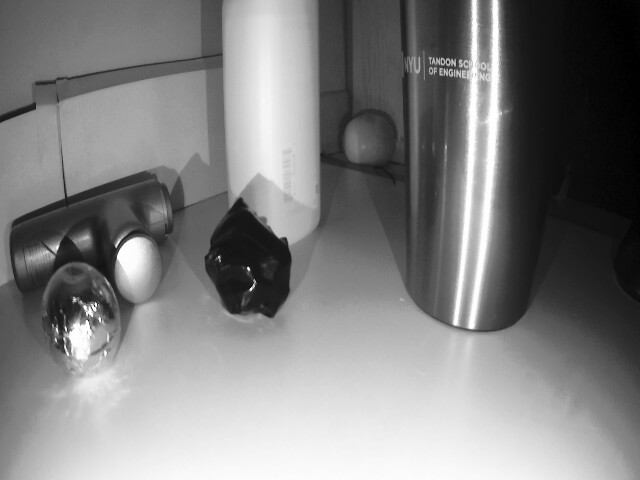black: (33, 265, 127, 374)
silver: (204, 208, 299, 323)
